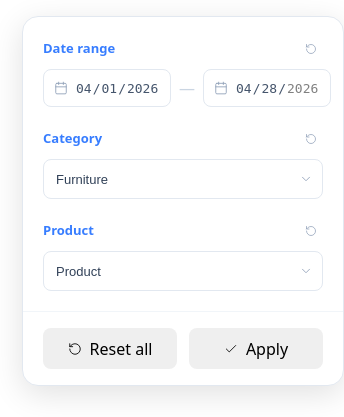
Test: SalesDynamicsFilter › скидає всі поля при натисканні на Reset all
Expected: the button "Apply" is enabled, [189, 328, 323, 369]
Click the button "Reset all". click: [110, 349]
box: [43, 328, 177, 369]
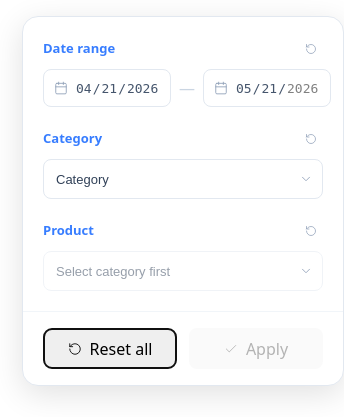
Expected: the button "Apply" is disabled, [189, 328, 323, 369]
